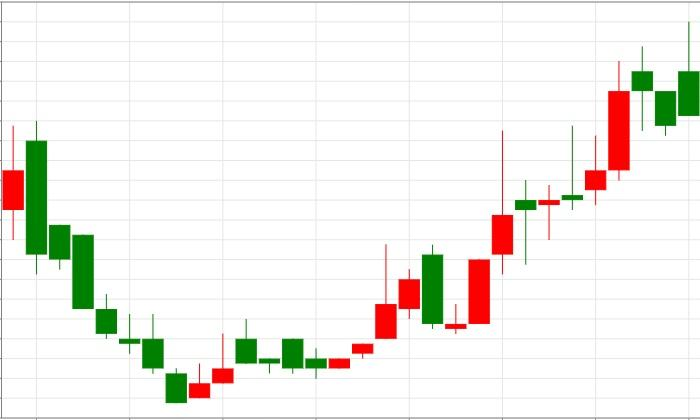evening_star_fall: (444, 44, 676, 334)
